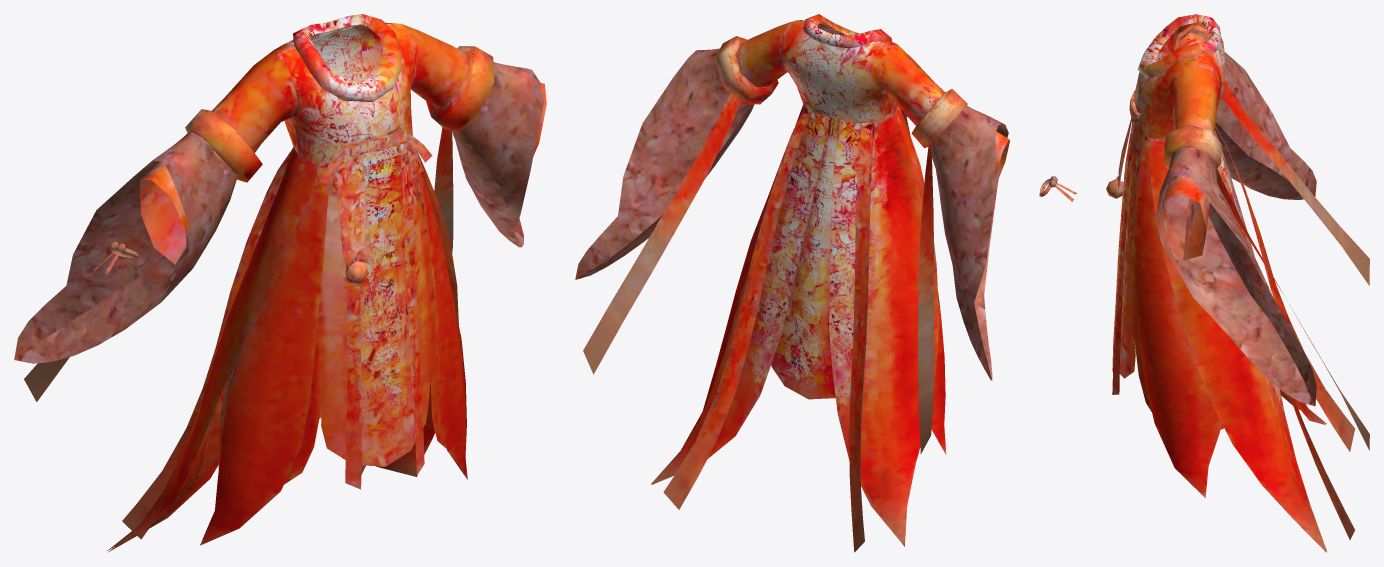
3 renders of one model, left to right at view 1: azimuth 30°, elevation 25°; view 2: azimuth 150°, elevation 25°; view 3: azimuth 270°, elevation 25°, orthographic. The views are drawn at different scales.
Visible parts, largest first — view 1: mesh_normalized; view 2: mesh_normalized; view 3: mesh_normalized.
Part boxes in pixels (left/top/right/bottom): mesh_normalized: left=14, top=14, right=546, bottom=551; mesh_normalized: left=575, top=14, right=1077, bottom=552; mesh_normalized: left=1106, top=14, right=1369, bottom=552.
Bounding box in the file's own units: 0.6605 × 0.6734 × 0.3441.
Materials: 1 (1 with a texture image).
